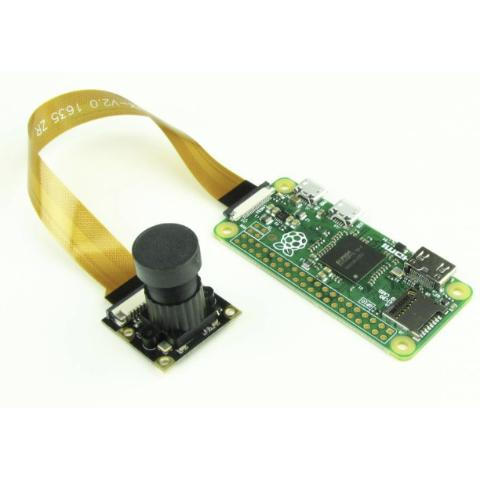Raspberry-Pi-Zero: (214, 176, 474, 360)
